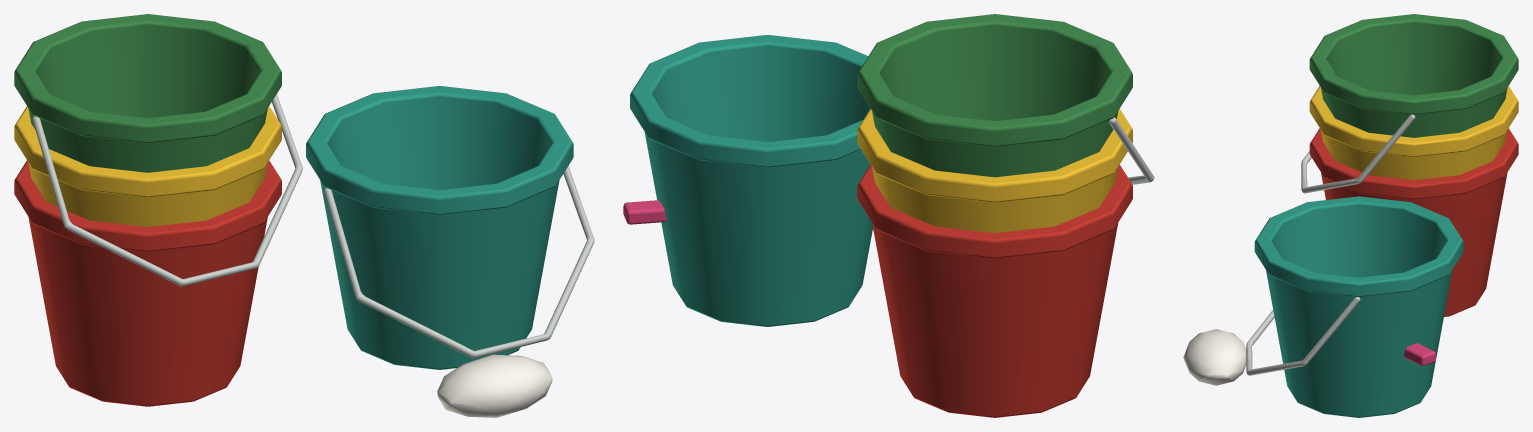
The model's file is prop_pail_stack.glb.
3 views of the same model, side by side, from view 1: azimuth 30°, elevation 25°; view 2: azimuth 150°, elevation 25°; view 3: azimuth 270°, elevation 25° (orthographic). The views are drawn at different scales.
Visible parts, largest first — view 1: prop_pail_stack; view 2: prop_pail_stack; view 3: prop_pail_stack.
Part boxes in pixels (x1,y1,x2,y2): prop_pail_stack: (14,14,594,417); prop_pail_stack: (623,14,1154,417); prop_pail_stack: (1183,14,1518,417).
Bounding box in the file's own units: 0.8103 × 0.475 × 0.61.
